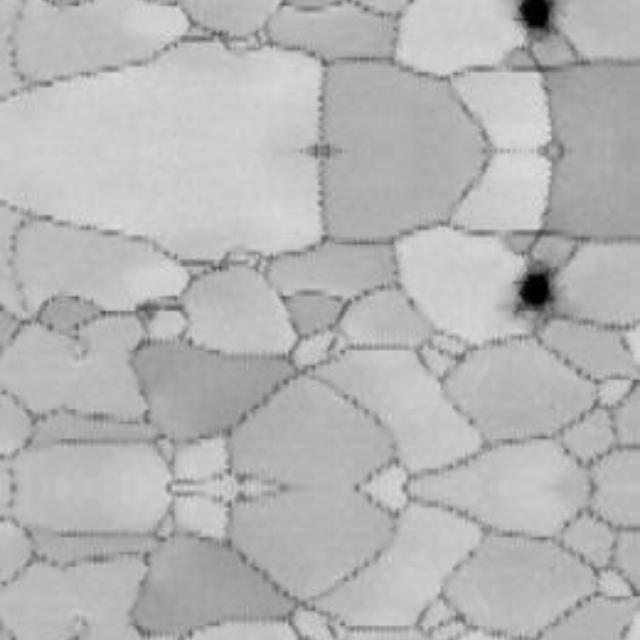good_void: (508, 263, 561, 326), (513, 0, 561, 40)
